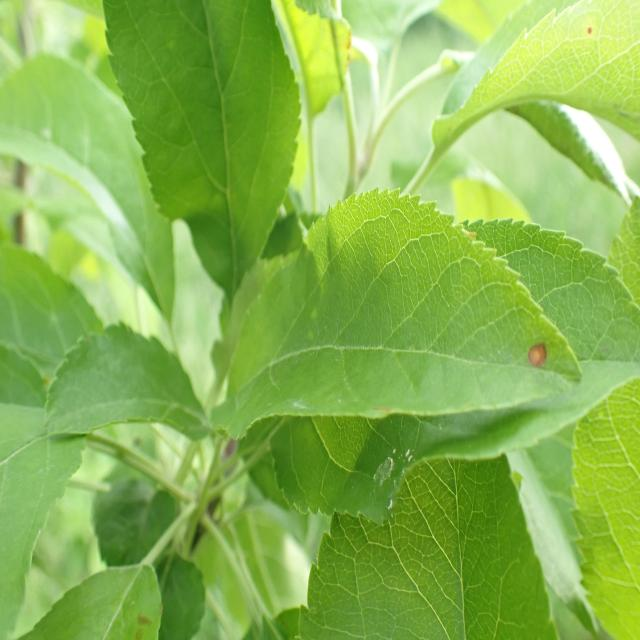Black Rot: (522, 322, 549, 384)
